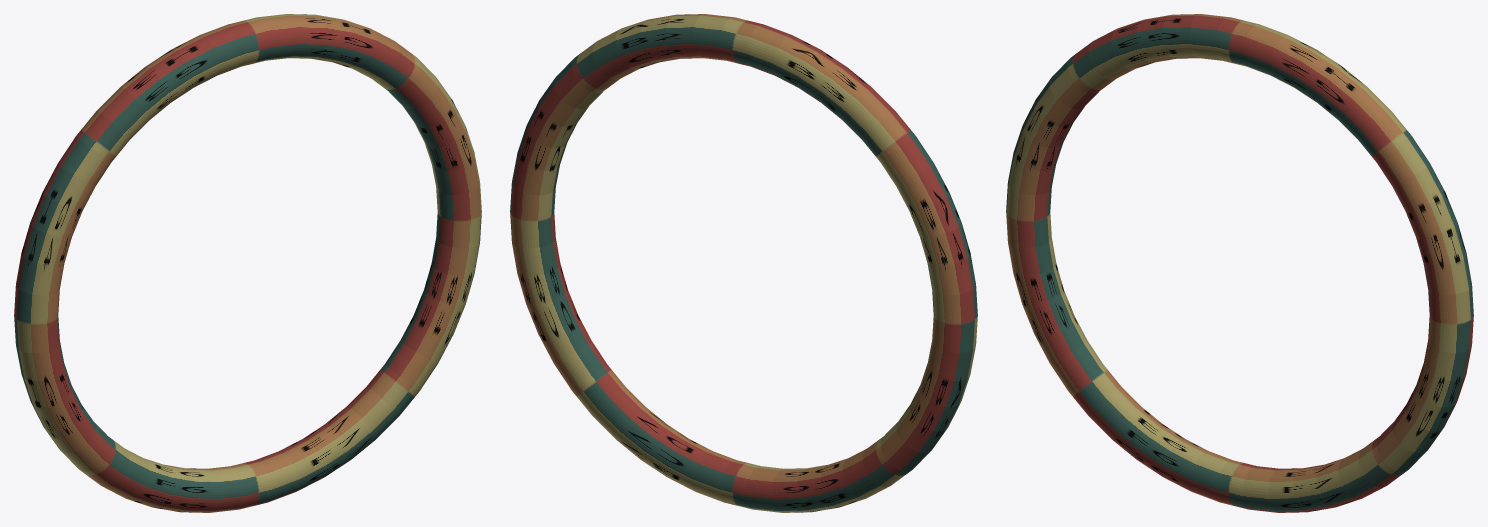
File: texture_torus_R27_r2.glb
The picture shows the model from 3 angles, left to right: view 1: azimuth 30°, elevation 25°; view 2: azimuth 150°, elevation 25°; view 3: azimuth 330°, elevation 25°; orthographic projection.
Visible parts, largest first — view 1: world; view 2: world; view 3: world.
Part boxes in pixels (<box>): world: <box>14,14,481,512</box>; world: <box>510,14,977,512</box>; world: <box>1006,14,1473,512</box>.
Size of the model in its own units: 30.53 by 30.47 by 2.53.
1 material, 1 textured.
